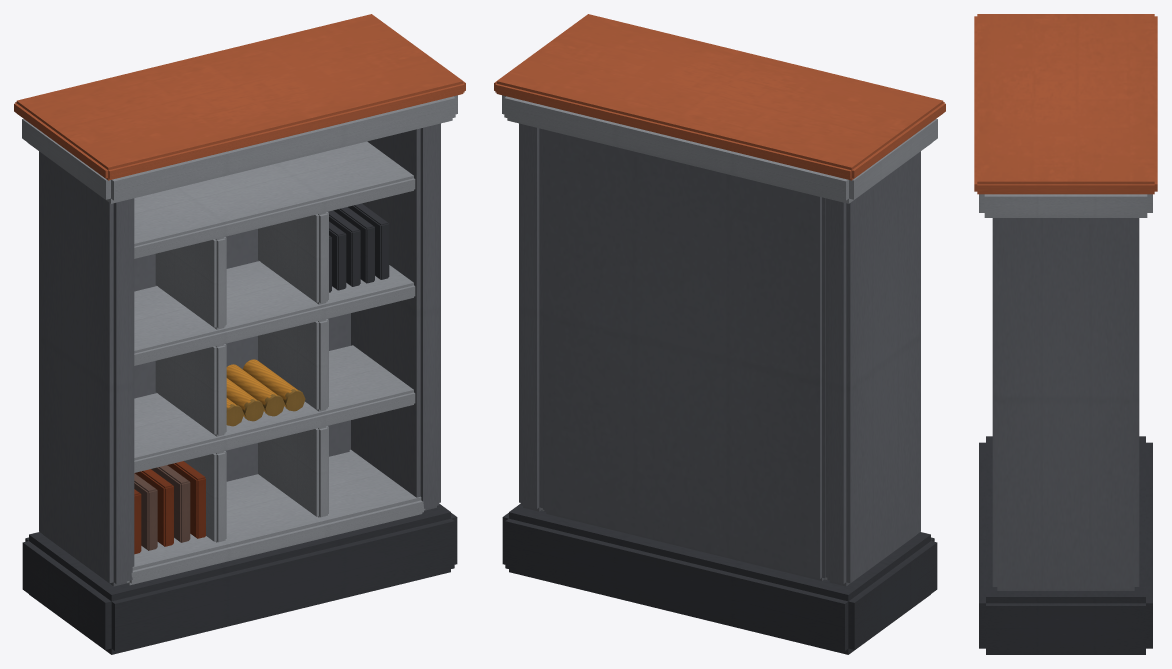
The model's file is bookcase_tablet_vault.glb.
3 renders of one model, left to right at view 1: azimuth 30°, elevation 25°; view 2: azimuth 150°, elevation 25°; view 3: azimuth 270°, elevation 25°, orthographic. The views are drawn at different scales.
Visible parts, largest first — view 1: bookcase_tablet_vault; view 2: bookcase_tablet_vault; view 3: bookcase_tablet_vault.
Part boxes in pixels (bbox=[...]): bookcase_tablet_vault: bbox=[14, 14, 465, 654]; bookcase_tablet_vault: bbox=[494, 14, 945, 654]; bookcase_tablet_vault: bbox=[974, 14, 1157, 654].
Bounding box in the file's own units: 1.76 × 2.3 × 0.8.
1 material, 1 textured.
